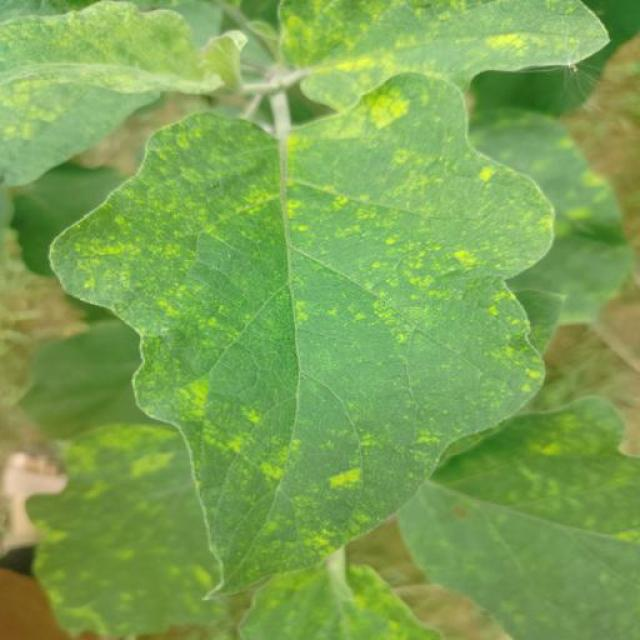leaf_spot: (338, 566, 411, 632), (85, 435, 180, 478), (153, 280, 225, 334), (149, 180, 220, 230), (13, 74, 69, 136), (531, 434, 619, 466), (361, 288, 414, 341), (257, 436, 308, 489), (102, 231, 166, 272), (391, 144, 447, 190), (408, 250, 451, 305), (329, 190, 394, 222), (508, 339, 544, 391), (288, 288, 332, 330), (332, 49, 394, 77), (285, 8, 325, 51), (365, 104, 425, 132), (450, 246, 494, 282), (482, 34, 540, 61), (550, 204, 590, 243), (177, 382, 220, 415), (328, 471, 379, 496), (40, 508, 65, 554), (448, 252, 490, 279), (190, 558, 222, 592), (584, 168, 612, 202), (281, 190, 309, 222), (467, 163, 503, 186), (172, 129, 214, 146), (113, 546, 145, 567), (284, 139, 314, 159), (275, 564, 302, 586), (486, 302, 522, 318), (242, 404, 271, 422), (552, 139, 582, 153)
